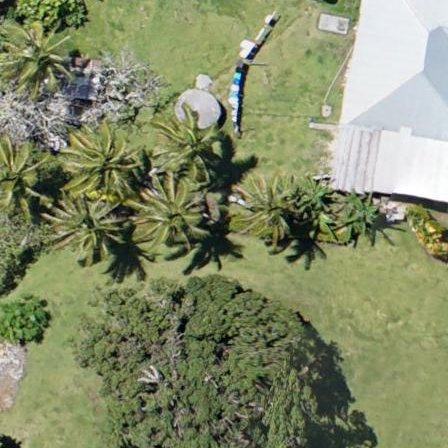palm_tree: (141, 174, 211, 249), (66, 121, 136, 195), (150, 106, 216, 176), (235, 178, 301, 247), (3, 20, 67, 88)
